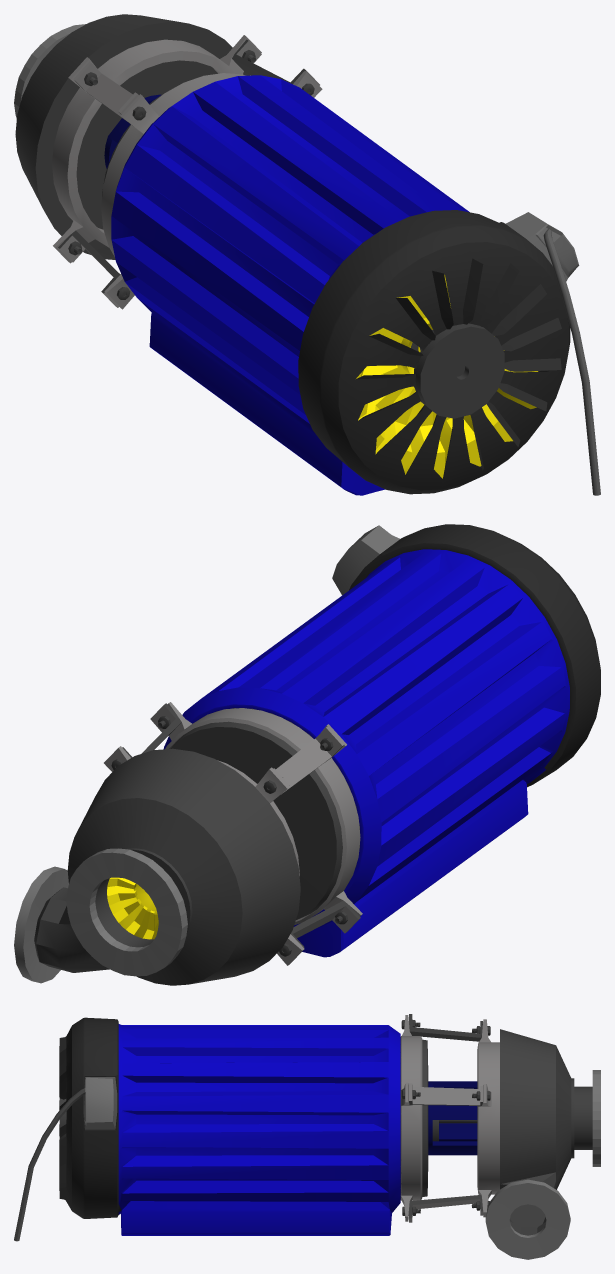
The model's file is simple_centrifugal_pump_model.glb.
The picture shows the model from 3 angles, top to bottom: view 1: azimuth 30°, elevation 25°; view 2: azimuth 150°, elevation 25°; view 3: azimuth 270°, elevation 25°; orthographic projection. The views are drawn at different scales.
Parts seen in each view (by area): view 1: Bumbe, Fan _FAN_0; view 2: Bumbe, Tourbin; view 3: Bumbe.
Part boxes in pixels (x1=…): Bumbe: x1=14, y1=14, x2=600, y2=495; Fan _FAN_0: x1=356, y1=274, x2=538, y2=478; Bumbe: x1=14, y1=524, x2=600, y2=985; Tourbin: x1=107, y1=877, x2=158, y2=939; Bumbe: x1=14, y1=1014, x2=600, y2=1259.
Bounding box in the file's own units: 217 × 217 × 607.
